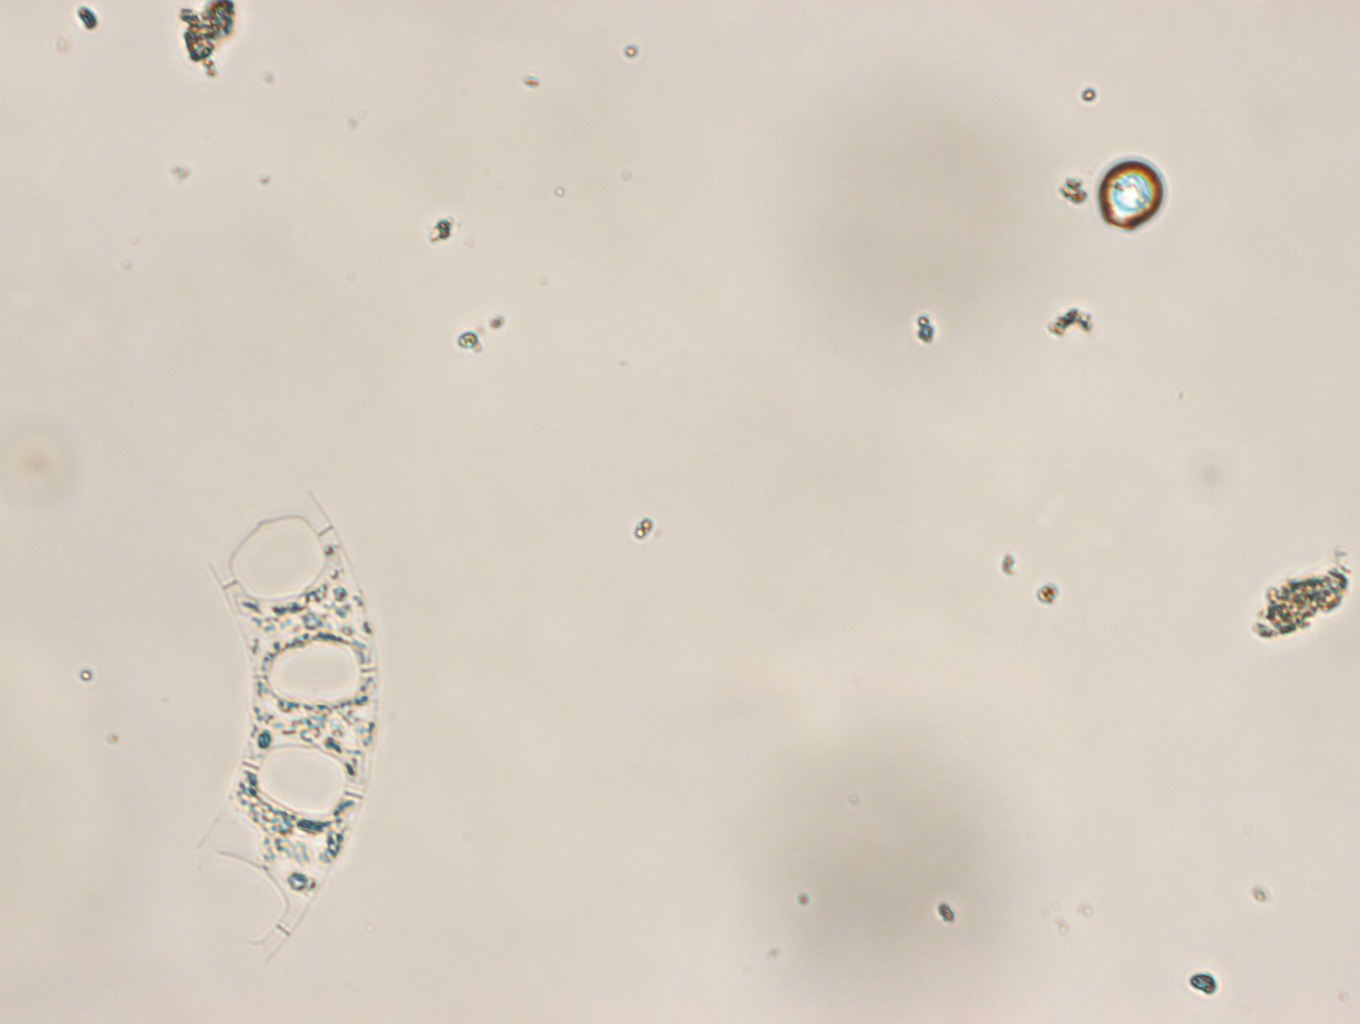eucampia: (200, 490, 382, 959)
